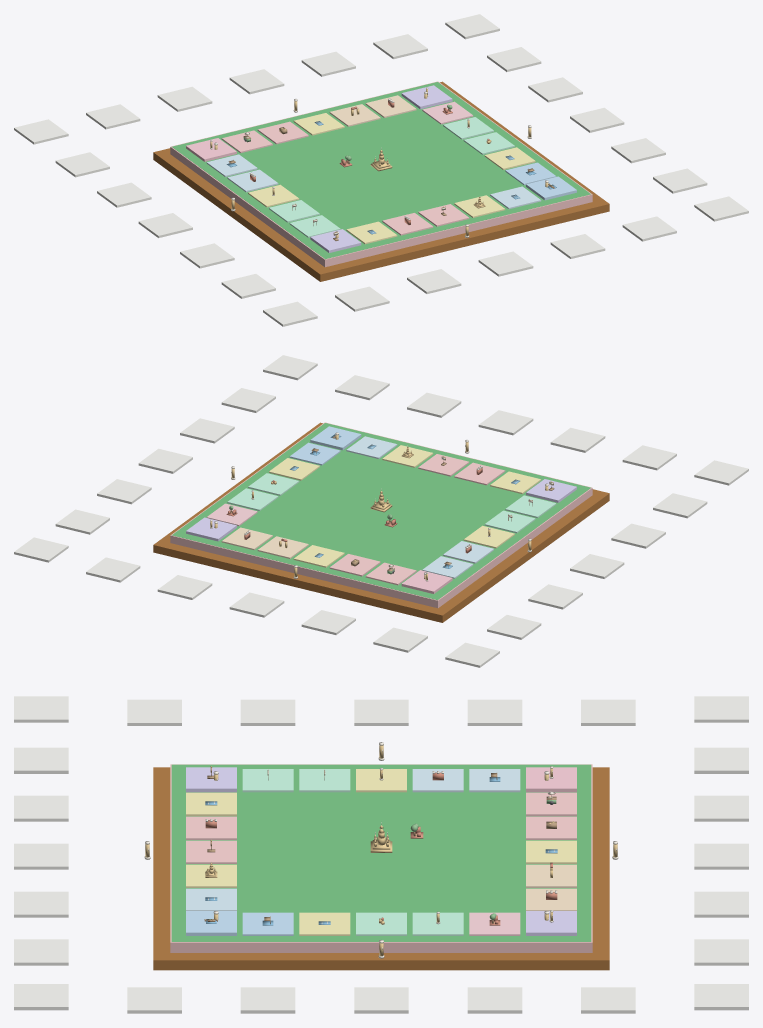
File: ayutthaya_board.glb
The picture shows the model from 3 angles, top to bottom: view 1: azimuth 30°, elevation 25°; view 2: azimuth 150°, elevation 25°; view 3: azimuth 270°, elevation 25°; orthographic projection. The views are drawn at different scales.
Parts seen in each view (by area): view 1: ayutthaya_grass, ayutthaya_bottom_base, ayutthaya_island, Sidewalk_14, Sidewalk_8, Sidewalk_15, Sidewalk_2, Sidewalk_3, Sidewalk_0, Sidewalk_12, Sidewalk_13, Sidewalk_20 (+39 smaller); view 2: ayutthaya_grass, ayutthaya_bottom_base, ayutthaya_island, Sidewalk_10, Sidewalk_4, Sidewalk_15, Sidewalk_16, Sidewalk_3, Sidewalk_13, Sidewalk_18, Sidewalk_22, Sidewalk_5 (+39 smaller); view 3: ayutthaya_grass, ayutthaya_bottom_base, ayutthaya_island, Sidewalk_10, Sidewalk_8, Sidewalk_20, Sidewalk_22, Sidewalk_0, Sidewalk_11, Sidewalk_12, Sidewalk_13, Sidewalk_14 (+39 smaller).
Boxes of the visible parts, left/top/right/bottom form: ayutthaya_grass: left=172, top=82, right=590, bottom=259; ayutthaya_bottom_base: left=153, top=81, right=609, bottom=281; ayutthaya_island: left=170, top=81, right=592, bottom=267; Sidewalk_14: left=550, top=234, right=605, bottom=258; Sidewalk_8: left=528, top=77, right=582, bottom=102; Sidewalk_15: left=478, top=251, right=533, bottom=276; Sidewalk_2: left=157, top=86, right=212, bottom=111; Sidewalk_3: left=229, top=69, right=284, bottom=94; Sidewalk_0: left=14, top=119, right=68, bottom=144; Sidewalk_12: left=694, top=196, right=748, bottom=221; Sidewalk_13: left=622, top=216, right=676, bottom=241; Sidewalk_20: left=180, top=243, right=234, bottom=268; ayutthaya_grass: left=172, top=423, right=590, bottom=600; ayutthaya_bottom_base: left=153, top=422, right=609, bottom=622; ayutthaya_island: left=170, top=422, right=592, bottom=608; Sidewalk_10: left=180, top=418, right=234, bottom=443; Sidewalk_4: left=157, top=575, right=212, bottom=599; Sidewalk_15: left=478, top=410, right=533, bottom=435; Sidewalk_16: left=550, top=427, right=605, bottom=452; Sidewalk_3: left=229, top=592, right=284, bottom=617; Sidewalk_13: left=335, top=375, right=389, bottom=400; Sidewalk_18: left=694, top=460, right=748, bottom=485; Sidewalk_22: left=528, top=584, right=582, bottom=609; Sidewalk_5: left=86, top=557, right=140, bottom=582; ayutthaya_grass: left=171, top=764, right=591, bottom=941; ayutthaya_bottom_base: left=153, top=767, right=609, bottom=970; ayutthaya_island: left=170, top=764, right=592, bottom=952; Sidewalk_10: left=240, top=987, right=295, bottom=1013; Sidewalk_8: left=467, top=987, right=522, bottom=1013; Sidewalk_20: left=240, top=699, right=295, bottom=725; Sidewalk_22: left=467, top=699, right=522, bottom=725; Sidewalk_0: left=694, top=696, right=748, bottom=722; Sidewalk_11: left=127, top=987, right=181, bottom=1013; Sidewalk_12: left=14, top=984, right=68, bottom=1010; Sidewalk_13: left=14, top=939, right=68, bottom=965; Sidewalk_14: left=14, top=891, right=68, bottom=917.
Bounding box in the file's own units: 51.85 × 4.05 × 51.85.
